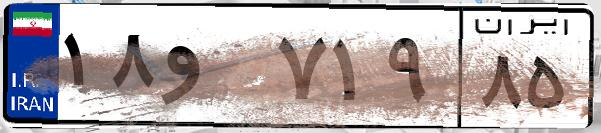1: (330, 28, 385, 110), (57, 26, 110, 100)
5: (525, 38, 570, 115)
7: (270, 28, 330, 110)
8: (475, 38, 525, 113), (110, 28, 158, 98)
9: (385, 28, 445, 110)
و: (158, 20, 270, 120)
